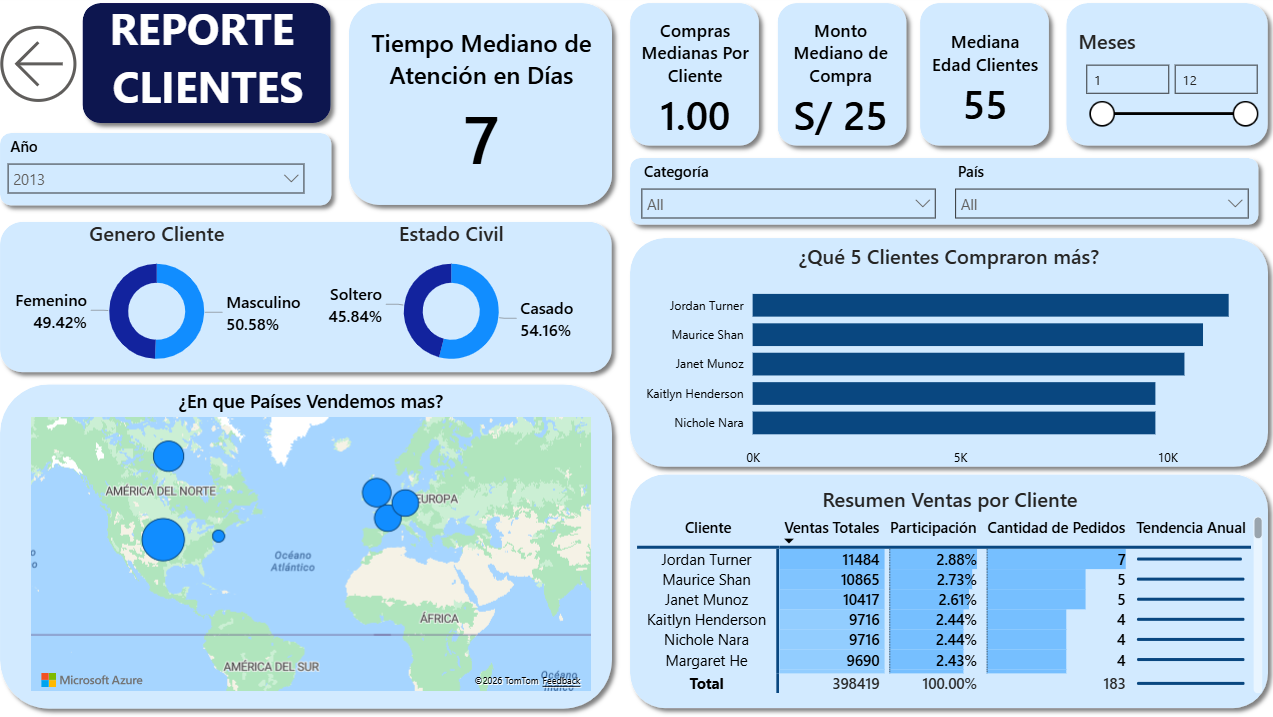

The page's visual inventory and layout, read from the dashboard file:
{"tool":"powerbi","page":{"name":"Reporte Clientes","canvas":[1280,720],"ordinal":1},"visuals":[{"type":"group","id":"g1","title":"Group 1","box":[0,0,1280,720.3],"z":0},{"type":"shape","box":[626.7,154.4,643.3,84.4],"z":0,"group":"g1"},{"type":"actionButton","box":[0,22.9,98.6,94.3],"z":2000},{"type":"shape","box":[0,379.4,627,340.8],"z":2000,"group":"g1"},{"type":"shape","box":[82.5,0,265,137.5],"z":3000,"group":"g1"},{"type":"clusteredBarChart","title":"¿Qué 5 Clientes Compraron más?","fields":{"Y":["Sum(fact_ventas.importe_venta)"],"Category":["dim_clientes.nombre_completo"]},"box":[638.6,248,630,232.3],"z":3000},{"type":"azureMap","title":"¿En que Países Vendemos mas?","fields":{"Category":["dim_clientes.pais"],"Size":["Count(fact_ventas.numero_orden)"]},"box":[34.4,392.2,566.7,306.7],"z":4000},{"type":"shape","box":[0,217.8,626.7,167.8],"z":5000,"group":"g1"},{"type":"donutChart","title":"Genero Cliente","fields":{"Category":["dim_clientes.genero"],"Y":["CountNonNull(dim_clientes.genero)"]},"box":[15.6,224.4,297.8,157.8],"z":5000},{"type":"donutChart","title":"Estado Civil","fields":{"Category":["dim_clientes.estado_civil"],"Y":["CountNonNull(dim_clientes.estado_civil)"]},"box":[311.1,224.4,294.4,157.8],"z":6000},{"type":"shape","box":[627.1,234.3,652.9,245.7],"z":6000,"group":"g1"},{"type":"shape","box":[627.2,469,652.8,250.9],"z":7000,"group":"g1"},{"type":"pivotTable","title":"Resumen Ventas por Cliente","fields":{"Rows":["dim_clientes.nombre_completo"],"Values":["Sum(fact_ventas.importe_venta)","Divide(Sum(fact_ventas.importe_venta), ScopedEval(Sum(fact_ventas.importe_venta), []))","Count(fact_ventas.numero_orden)","SparklineData(Sum(dim_fecha.Número Mes)_[fact_ventas.importe_venta])"]},"box":[638.8,488.8,632.5,212.5],"z":7000},{"type":"shape","box":[627.5,0,146.2,160],"z":8000,"group":"g1"},{"type":"slicer","title":"FILTRO CATEGORIA","fields":{"Values":["dim_productos.categoria"]},"box":[636.7,162.2,313.3,72.2],"z":8000},{"type":"shape","box":[346.7,0,280,218.9],"z":9000,"group":"g1"},{"type":"slicer","title":"FILTRO PAIS","fields":{"Values":["dim_clientes.pais"]},"box":[948.9,162.2,312.2,71.1],"z":9000},{"type":"shape","box":[0,128.9,347.8,90],"z":10000,"group":"g1"},{"type":"slicer","title":"FILTRO AÑO","fields":{"Values":["dim_fecha.Año"]},"box":[6.7,136.7,315.6,70],"z":10000},{"type":"shape","box":[1061.4,0,218.6,160],"z":11000,"group":"g1"},{"type":"slicer","title":"Meses","fields":{"Values":["dim_fecha.Número Mes"]},"box":[1077.8,33.3,192.2,103.3],"z":11000},{"type":"cardVisual","fields":{"Data":["Median(fact_ventas.Tiempo_de_atencion)"]},"box":[347.5,0,282.5,217.5],"z":12000},{"type":"cardVisual","fields":{"Data":["TABLA_METRICAS.Mediana_Pedidos"]},"box":[616.2,7.5,170,155],"z":13000},{"type":"cardVisual","fields":{"Data":["Median(fact_ventas.importe_venta)"]},"box":[755.1,7.5,181.6,155.5],"z":14000},{"type":"cardVisual","fields":{"Data":["Median(dim_clientes.EDAD_CLIENTE)"]},"box":[903.8,7.5,170,155],"z":15000},{"type":"shape","box":[773.8,0,146.2,160],"z":21000,"group":"g1"},{"type":"textbox","title":"TITULO","box":[91.2,0,250,128.8],"z":21500,"group":"g1"},{"type":"shape","box":[915,0,146.2,160],"z":22000,"group":"g1"}]}

Visuals, with their boxes in screenshot pixels (x1, y1, x2, y2), scaled from the page's 1280x720 canvas onto the 1273x717 screenshot:
"Group 1" group: region(0, 0, 1272, 716)
shape: region(623, 154, 1263, 238)
actionButton: region(0, 23, 98, 117)
shape: region(0, 378, 624, 716)
shape: region(82, 0, 346, 137)
"¿Qué 5 Clientes Compraron más?" clusteredBarChart: region(635, 247, 1262, 478)
"¿En que Países Vendemos mas?" azureMap: region(34, 391, 598, 696)
shape: region(0, 217, 623, 384)
"Genero Cliente" donutChart: region(16, 223, 312, 381)
"Estado Civil" donutChart: region(309, 223, 602, 381)
shape: region(624, 233, 1272, 478)
shape: region(624, 467, 1272, 716)
"Resumen Ventas por Cliente" pivotTable: region(635, 487, 1264, 698)
shape: region(624, 0, 769, 159)
"FILTRO CATEGORIA" slicer: region(633, 162, 945, 233)
shape: region(345, 0, 623, 218)
"FILTRO PAIS" slicer: region(944, 162, 1254, 232)
shape: region(0, 128, 346, 218)
"FILTRO AÑO" slicer: region(7, 136, 321, 206)
shape: region(1056, 0, 1272, 159)
"Meses" slicer: region(1072, 33, 1263, 136)
cardVisual - Median(fact_ventas.Tiempo_de_atencion): region(346, 0, 627, 217)
cardVisual - TABLA_METRICAS.Mediana_Pedidos: region(613, 7, 782, 162)
cardVisual - Median(fact_ventas.importe_venta): region(751, 7, 932, 162)
cardVisual - Median(dim_clientes.EDAD_CLIENTE): region(899, 7, 1068, 162)
shape: region(770, 0, 915, 159)
"TITULO" textbox: region(91, 0, 339, 128)
shape: region(910, 0, 1055, 159)
